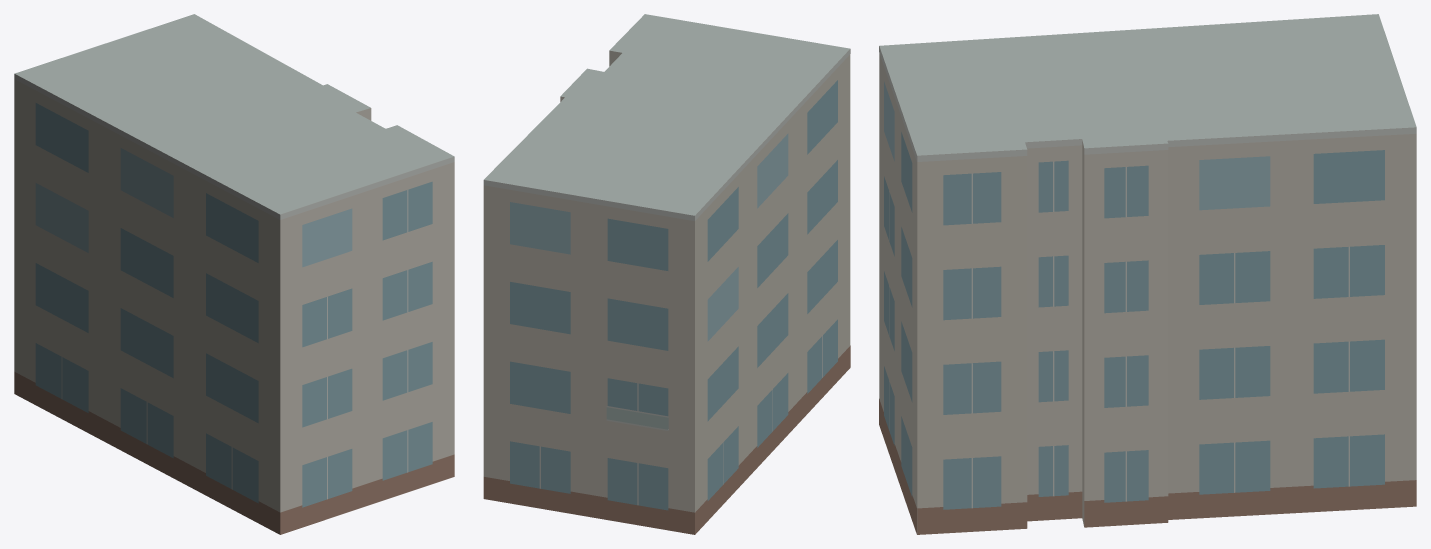
The model's file is survey-upis-33008101.glb.
3 views of the same model, side by side, from view 1: azimuth 30°, elevation 25°; view 2: azimuth 150°, elevation 25°; view 3: azimuth 270°, elevation 25° (orthographic). The views are drawn at different scales.
Visible parts, largest first — view 1: survey-upis-33008101.tmp; view 2: survey-upis-33008101.tmp; view 3: survey-upis-33008101.tmp.
Part boxes in pixels (x1,y1,x2,y2): survey-upis-33008101.tmp: [14, 14, 454, 534]; survey-upis-33008101.tmp: [483, 14, 850, 534]; survey-upis-33008101.tmp: [879, 14, 1416, 534].
Size of the model in its own units: 11.55 by 14.4 by 18.51.
